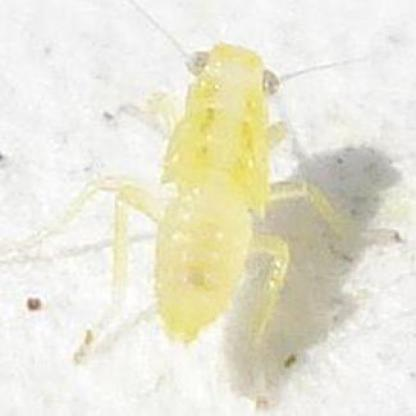green-leafhopper: (92, 38, 300, 347)
